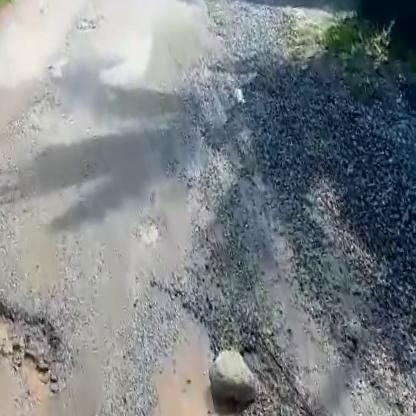pothole: (114, 299, 256, 416), (0, 280, 77, 413)
